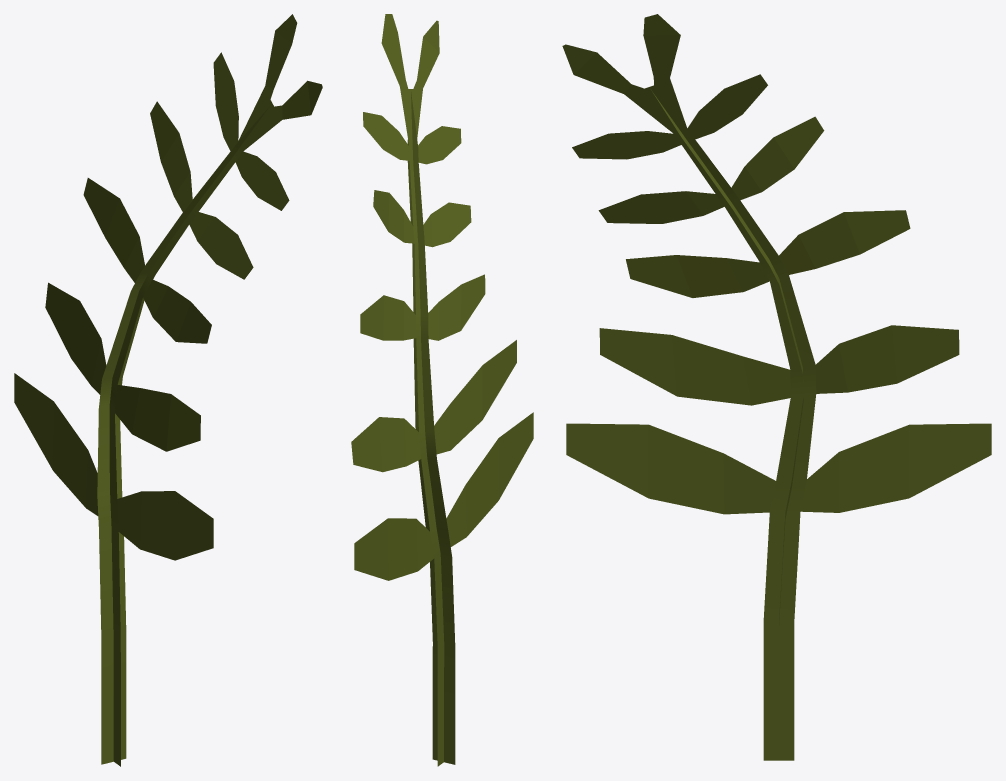
File: SM_Fern_01.fbx
3 renders of one model, left to right at view 1: azimuth 30°, elevation 25°; view 2: azimuth 150°, elevation 25°; view 3: azimuth 270°, elevation 25°, orthographic. The views are drawn at different scales.
Parts seen in each view (by area): view 1: Fern; view 2: Fern; view 3: Fern.
Part boxes in pixels (x1,y1,x2,y2): Fern: (14, 14, 322, 766); Fern: (351, 14, 533, 766); Fern: (562, 14, 991, 760).
Bounding box in the file's own units: 27.66 × 71.69 × 149.
